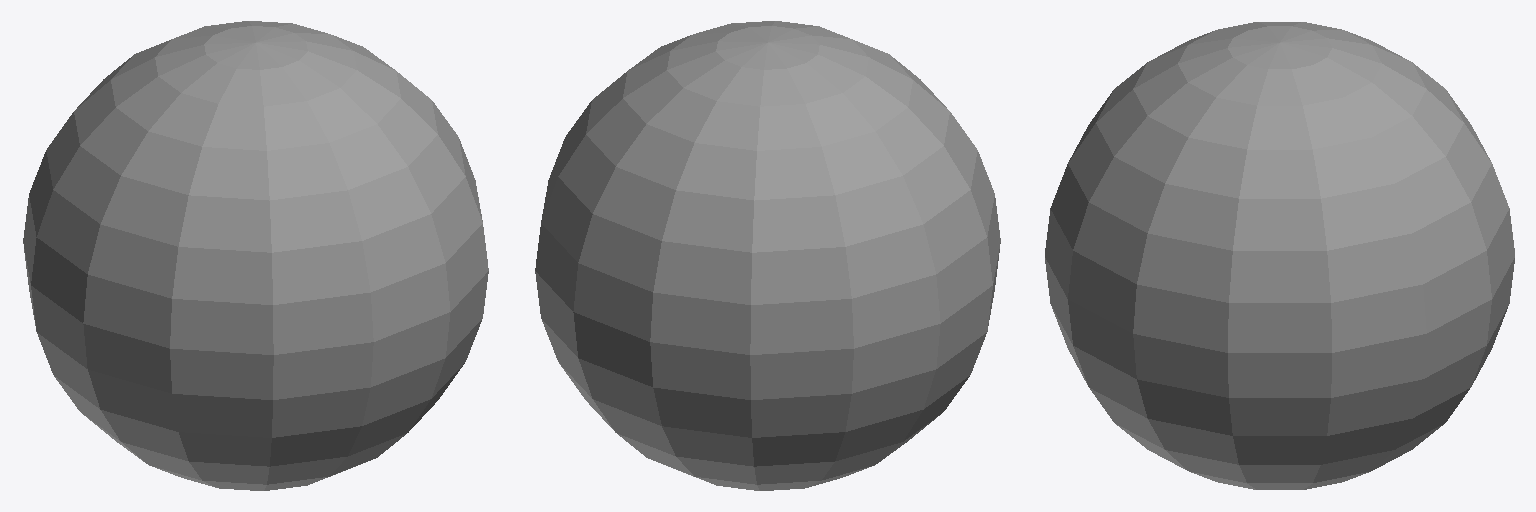
File: cue_ball.obj
3 renders of one model, left to right at view 1: azimuth 30°, elevation 25°; view 2: azimuth 150°, elevation 25°; view 3: azimuth 270°, elevation 25°, orthographic.
Visible parts, largest first — view 1: Sphere_Sphere.007; view 2: Sphere_Sphere.007; view 3: Sphere_Sphere.007.
Part boxes in pixels (left/top/right/bottom): Sphere_Sphere.007: left=23, top=21, right=488, bottom=490; Sphere_Sphere.007: left=535, top=21, right=1000, bottom=490; Sphere_Sphere.007: left=1045, top=22, right=1514, bottom=489.
Bounding box in the file's own units: 0.1114 × 0.1143 × 0.1143.